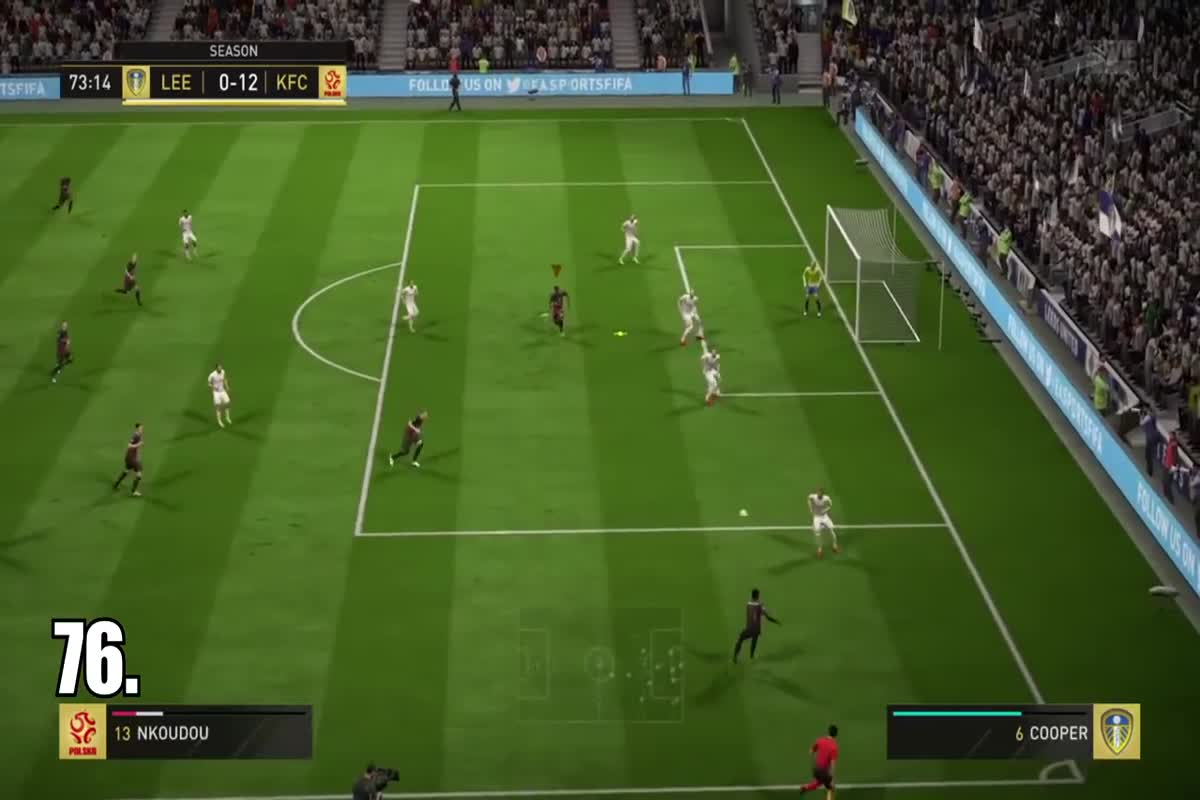ball: (730, 499, 755, 522)
